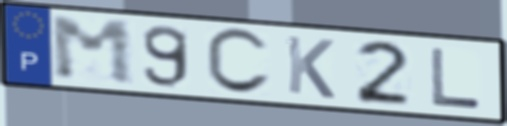2: (351, 39, 416, 109)
9: (140, 24, 192, 89)
C: (203, 26, 274, 97)
K: (283, 33, 337, 101)
L: (427, 46, 485, 111)
M: (45, 15, 138, 88)
